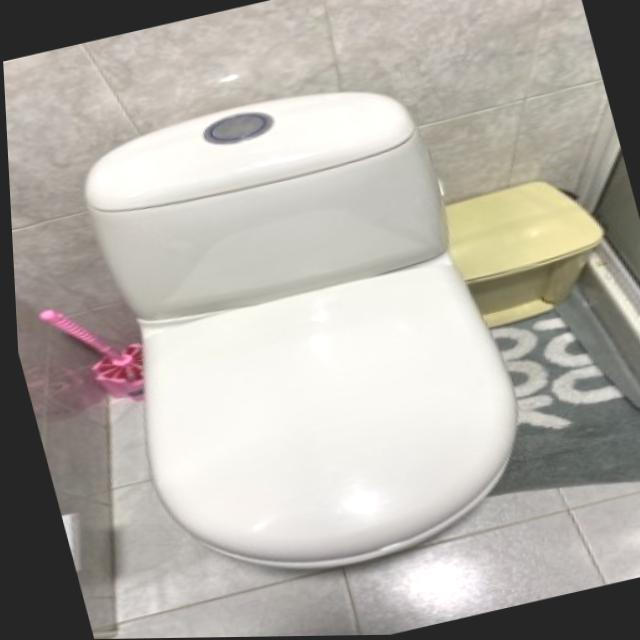toilet: (56, 60, 546, 605)
